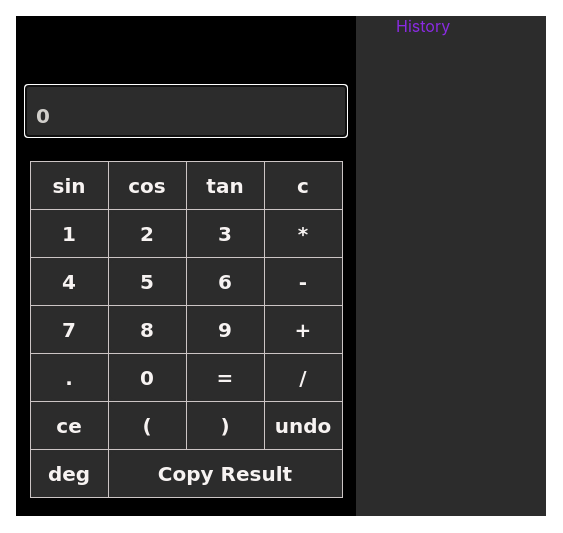
Test: App › test multiply operation
Click the button with test id "button3" at (225, 234), box [188,211,262,256]
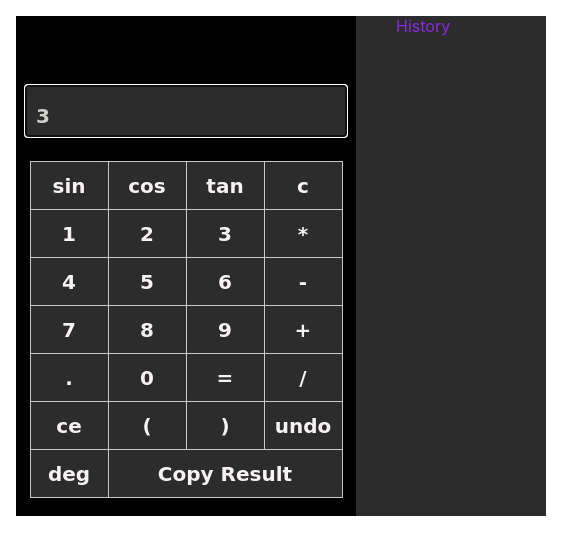
Now the field with test id "input" holds "3", box [26,86,346,136]
Click the button with test id "button0" at (147, 378), box [110,355,184,400]
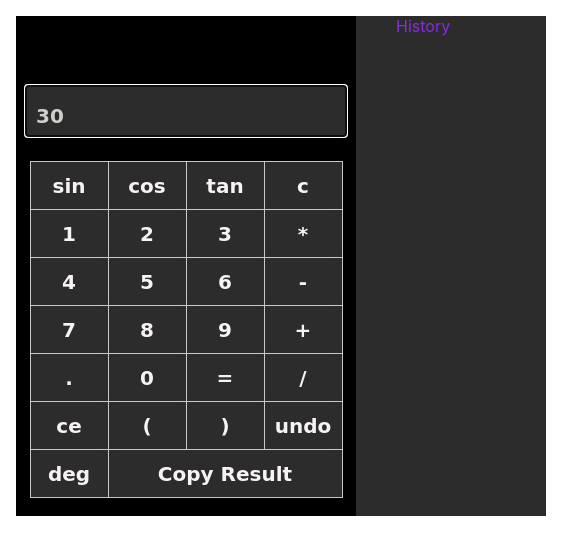
Now the field with test id "input" holds "30", box [26,86,346,136]
Click the button with test id "button*" at (303, 234), box [266,211,340,256]
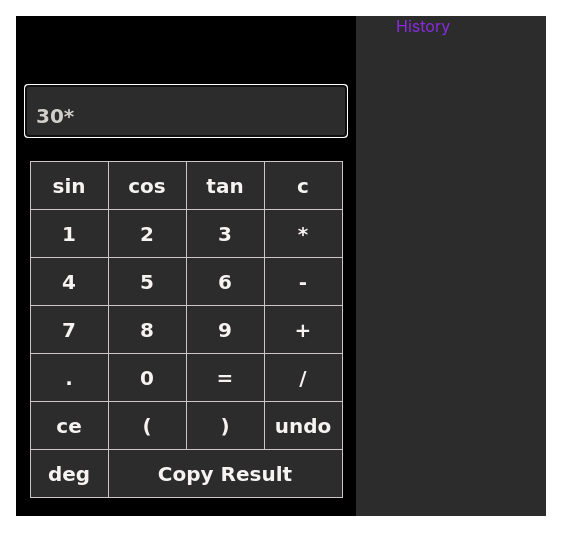
Now the field with test id "input" holds "30*", box [26,86,346,136]
Click the button with test id "button1" at (69, 234), box [32,211,106,256]
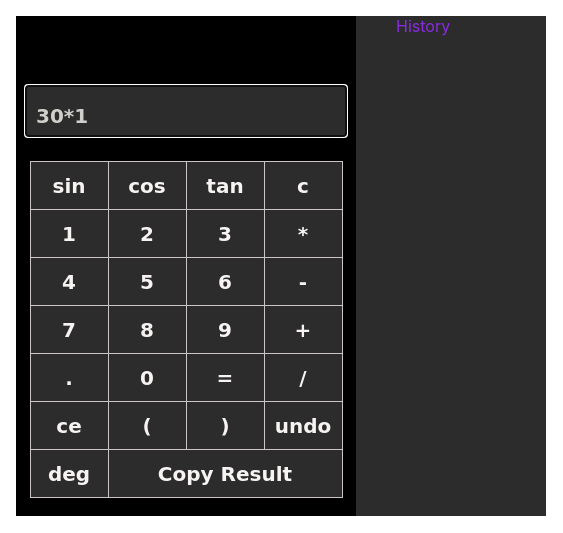
Now the field with test id "input" holds "30*1", box [26,86,346,136]
Click the button with test id "button=" at (225, 378), box [188,355,262,400]
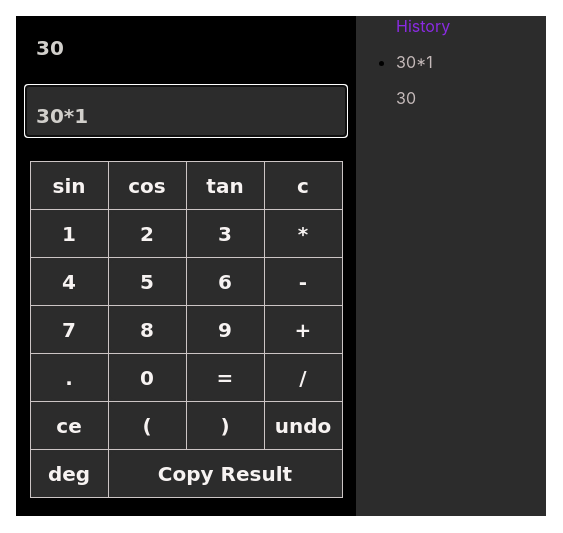
Now the text with id "result" reads "30", box [36,36,64,60]
